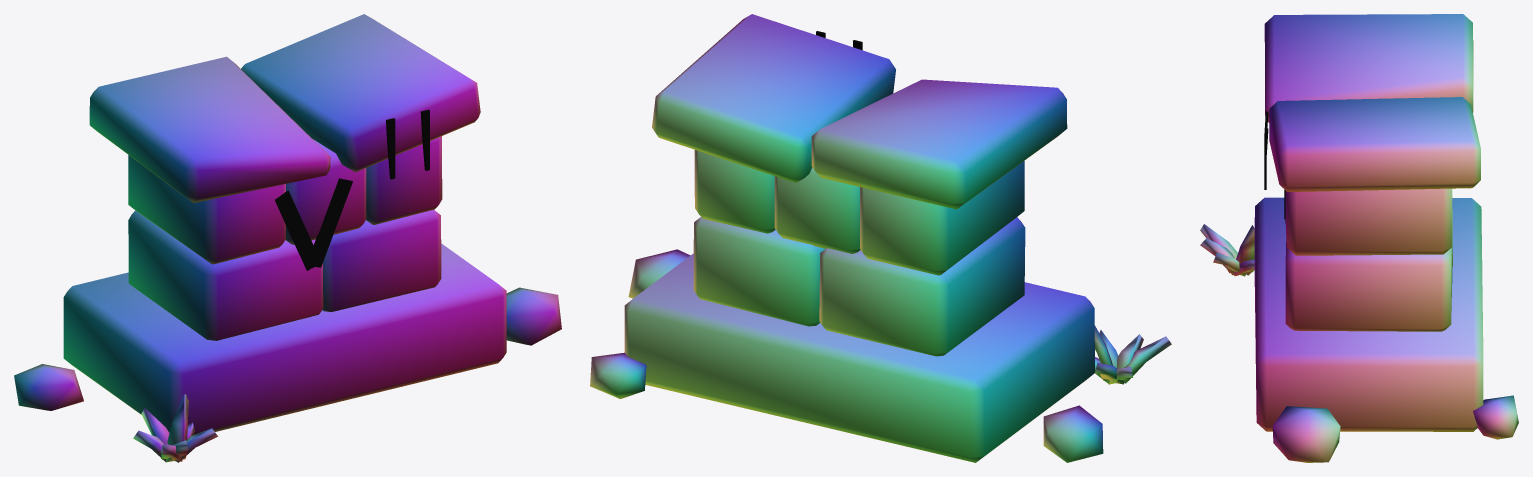
File: SM_Prop_Story_BrokenAltar.fbx
3 views of the same model, side by side, from view 1: azimuth 30°, elevation 25°; view 2: azimuth 150°, elevation 25°; view 3: azimuth 270°, elevation 25° (orthographic). The views are drawn at different scales.
Parts seen in each view (by area): view 1: SM_Prop_Story_BrokenAltar; view 2: SM_Prop_Story_BrokenAltar; view 3: SM_Prop_Story_BrokenAltar.
Part boxes in pixels (left/top/right/bottom): SM_Prop_Story_BrokenAltar: left=14, top=14, right=561, bottom=462; SM_Prop_Story_BrokenAltar: left=590, top=14, right=1171, bottom=462; SM_Prop_Story_BrokenAltar: left=1200, top=14, right=1518, bottom=462.
Bounding box in the file's own units: 1.83 × 1.03 × 1.04.
